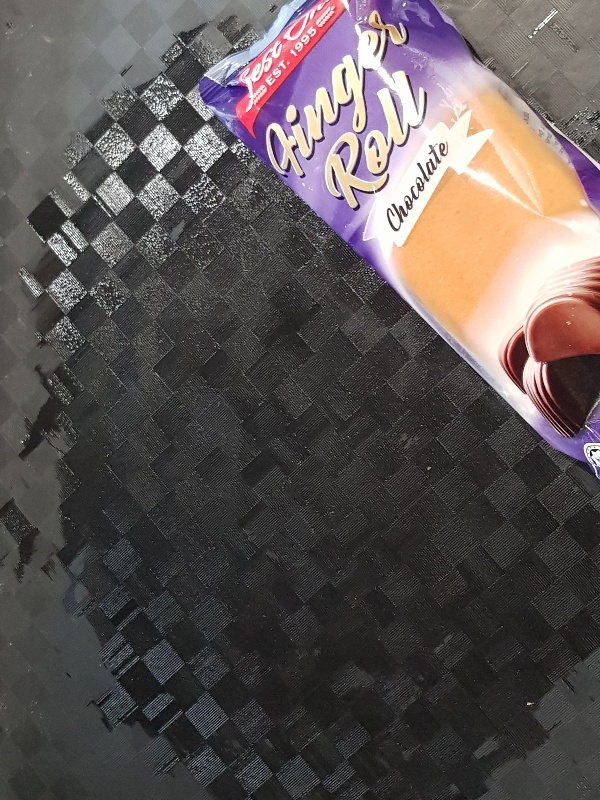Tinges Roll Chocolate: (199, 3, 600, 479)
